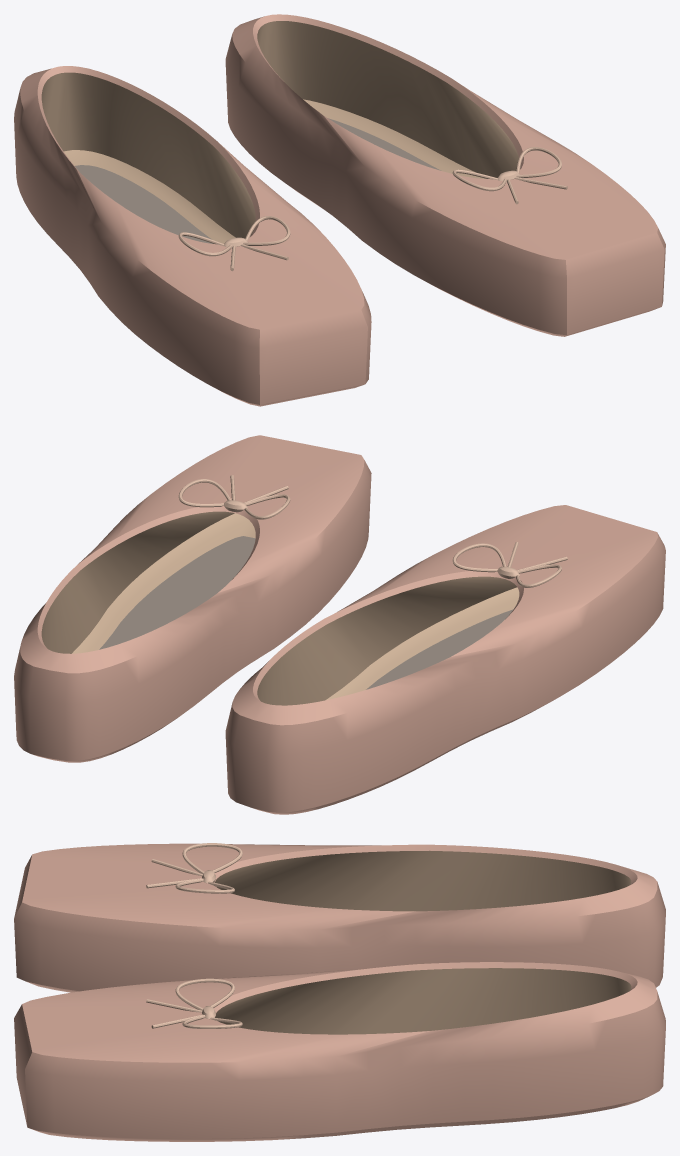
3 views of the same model, one above another, from view 1: azimuth 30°, elevation 25°; view 2: azimuth 150°, elevation 25°; view 3: azimuth 270°, elevation 25° (orthographic).
Visible parts, largest first — view 1: R_hollow_satin_shoe_with_lining, L_hollow_satin_shoe_with_lining, L_insole, R_insole; view 2: L_hollow_satin_shoe_with_lining, R_hollow_satin_shoe_with_lining, R_insole, L_insole; view 3: R_hollow_satin_shoe_with_lining, L_hollow_satin_shoe_with_lining, L_drawstring_loop_left, R_drawstring_loop_left, L_drawstring_loop_right, R_drawstring_loop_right.
Part boxes in pixels (box(x1,y1,x2,y2)): R_hollow_satin_shoe_with_lining: box(225, 14, 665, 336); L_hollow_satin_shoe_with_lining: box(14, 66, 371, 406); L_insole: box(75, 165, 212, 243); R_insole: box(328, 118, 441, 170); L_hollow_satin_shoe_with_lining: box(225, 505, 665, 814); R_hollow_satin_shoe_with_lining: box(14, 435, 371, 762); R_insole: box(99, 536, 255, 649); L_insole: box(366, 609, 513, 689); R_hollow_satin_shoe_with_lining: box(14, 962, 665, 1141); L_hollow_satin_shoe_with_lining: box(14, 843, 665, 992); L_drawstring_loop_left: box(182, 843, 242, 873); R_drawstring_loop_left: box(175, 978, 234, 1010); L_drawstring_loop_right: box(175, 878, 234, 893); R_drawstring_loop_right: box(182, 1015, 242, 1028).
Size of the model in its own units: 0.1879 by 0.043 by 0.2303.
